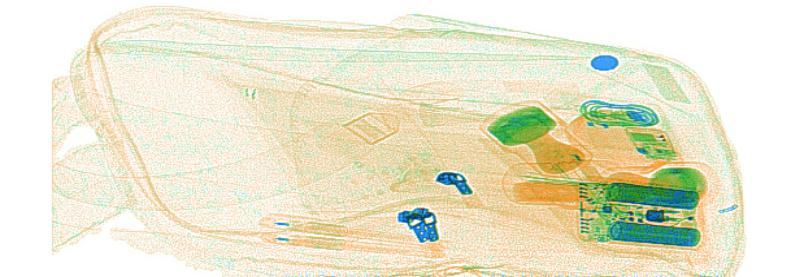battery: (572, 172, 709, 251)
seal: (481, 98, 594, 181), (603, 161, 709, 211)
